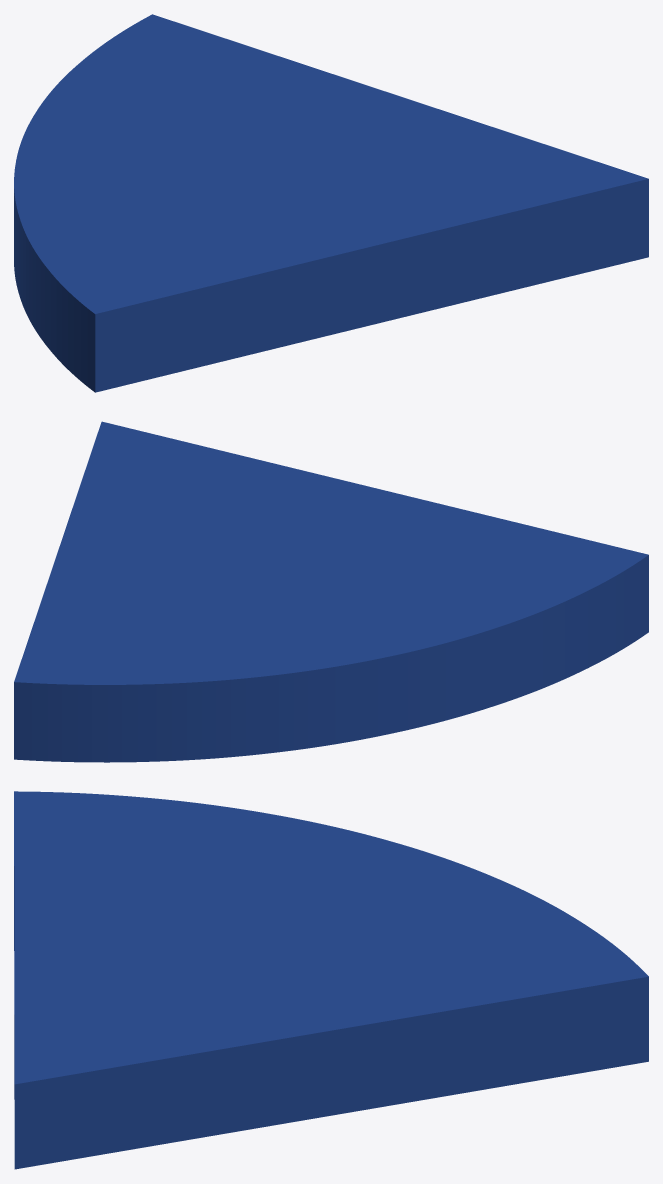
File: invest20.gltf
3 renders of one model, top to bottom at view 1: azimuth 30°, elevation 25°; view 2: azimuth 150°, elevation 25°; view 3: azimuth 270°, elevation 25°, orthographic. The views are drawn at different scales.
Parts seen in each view (by area): view 1: 20Invest; view 2: 20Invest; view 3: 20Invest.
Part boxes in pixels (box(x1,y1,x2,y2)): 20Invest: box(14, 14, 648, 392); 20Invest: box(14, 421, 648, 762); 20Invest: box(14, 791, 648, 1169).
Size of the model in its own units: 1.96 by 0.2649 by 1.79.
